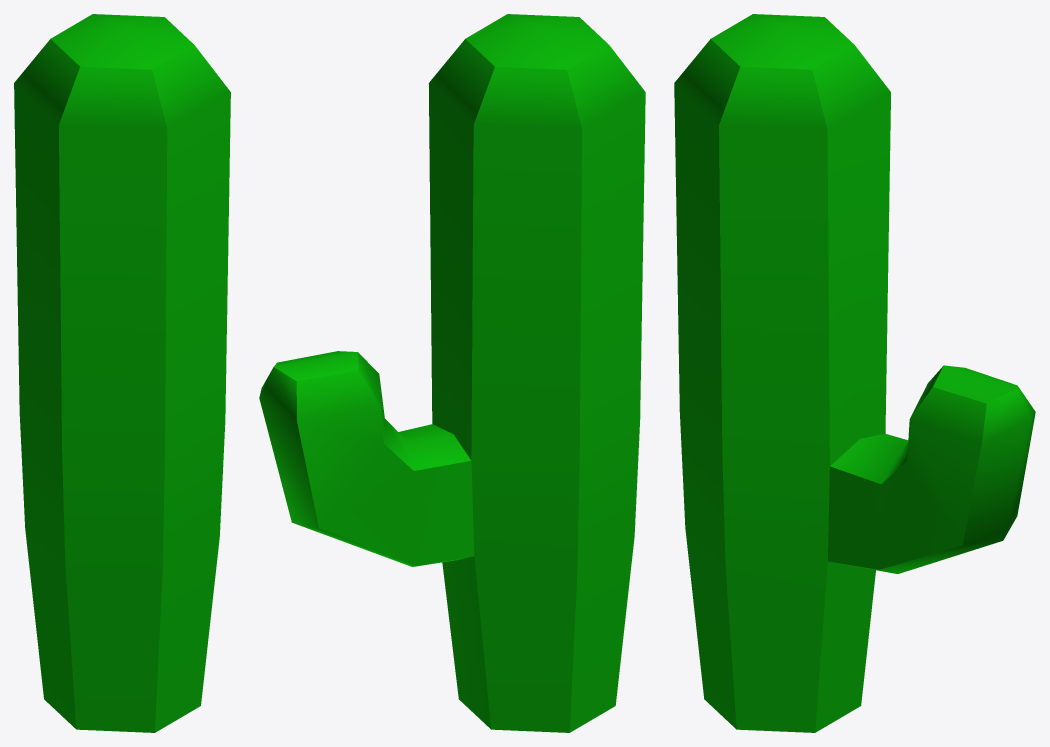
The model's file is Cactus_Decor_2.fbx.
The picture shows the model from 3 angles, left to right: view 1: azimuth 30°, elevation 25°; view 2: azimuth 150°, elevation 25°; view 3: azimuth 270°, elevation 25°; orthographic projection.
Parts seen in each view (by area): view 1: Cactus_Decor_2; view 2: Cactus_Decor_2; view 3: Cactus_Decor_2.
Boxes of the visible parts, x1,y1,x2,y2 form: Cactus_Decor_2: (14,14,230,732); Cactus_Decor_2: (259,14,645,732); Cactus_Decor_2: (674,14,1035,732).
Bounding box in the file's own units: 5.33 × 13.19 × 6.37.
